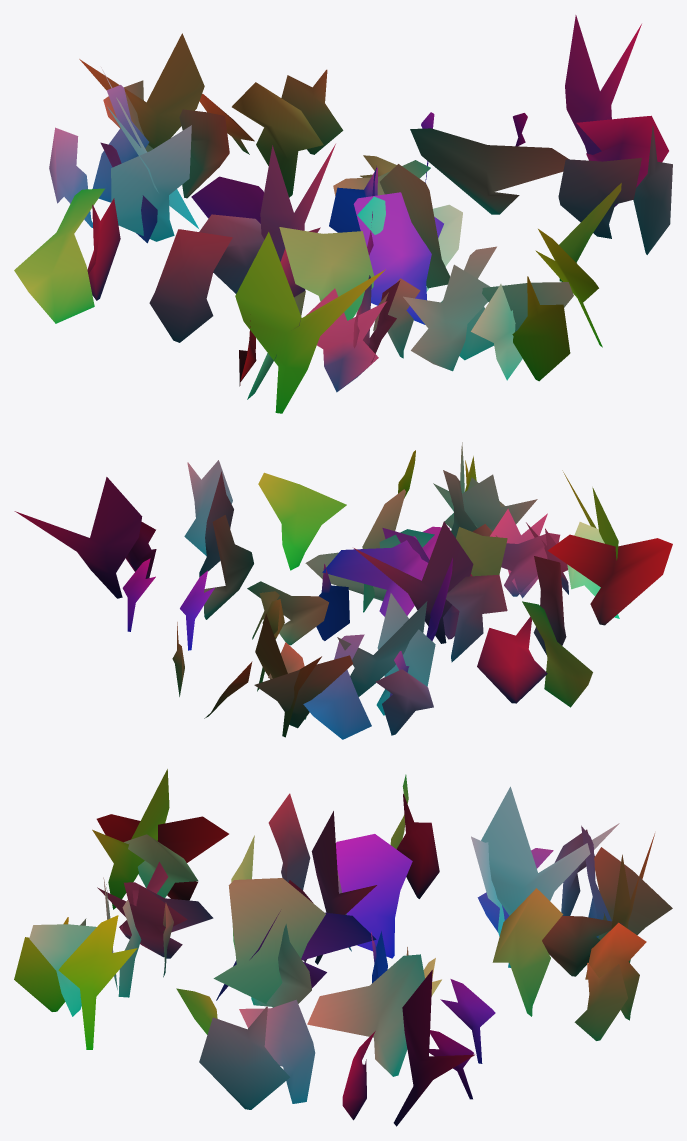
Rendered from Grass_Clumps_rbojr_High_rbojr_VarB_LOD0.fbx.
The picture shows the model from 3 angles, top to bottom: view 1: azimuth 30°, elevation 25°; view 2: azimuth 150°, elevation 25°; view 3: azimuth 270°, elevation 25°; orthographic projection. The views are drawn at different scales.
Parts seen in each view (by area): view 1: _631b_VarB_LOD0; view 2: _631b_VarB_LOD0; view 3: _631b_VarB_LOD0.
Boxes of the visible parts, x1,y1,x2,y2 form: _631b_VarB_LOD0: (14, 15, 672, 413); _631b_VarB_LOD0: (14, 442, 672, 739); _631b_VarB_LOD0: (14, 769, 672, 1126).
Size of the model in its own units: 86.36 by 20.69 by 78.5.
